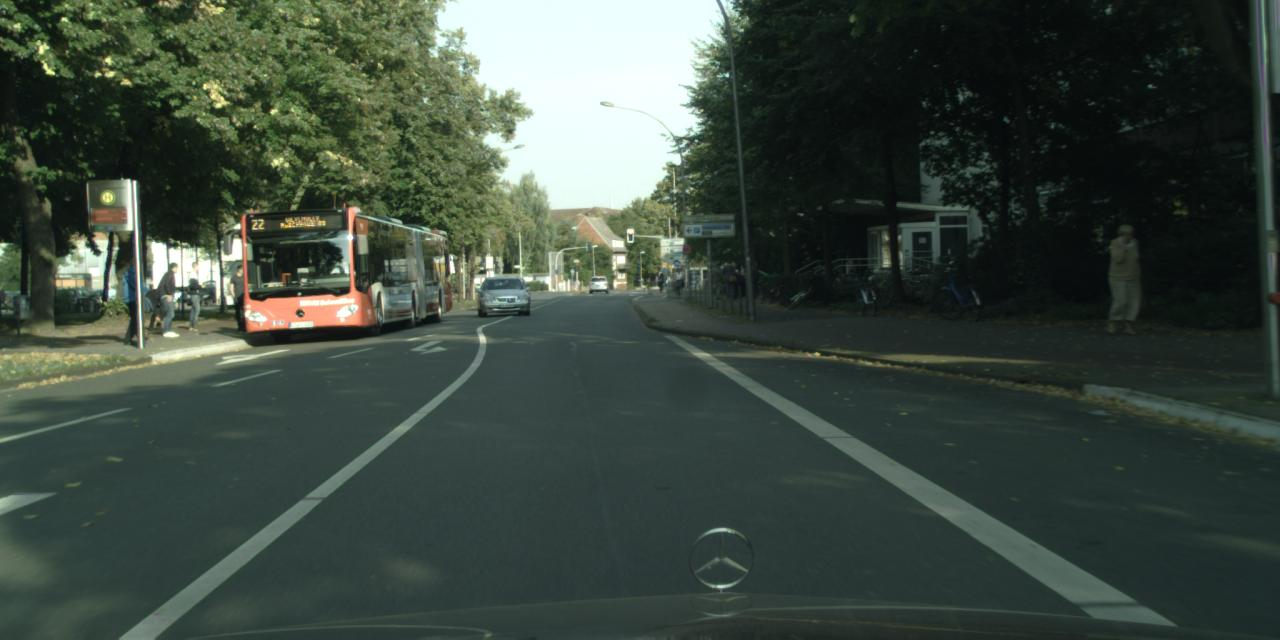ped: (1101, 223, 1145, 332), (119, 256, 153, 341), (156, 262, 187, 336), (180, 261, 208, 330), (228, 264, 255, 330), (154, 287, 170, 328), (722, 263, 736, 298), (709, 264, 722, 298), (736, 265, 748, 295), (748, 262, 758, 292), (673, 267, 683, 291), (106, 285, 114, 307), (658, 272, 664, 290)
